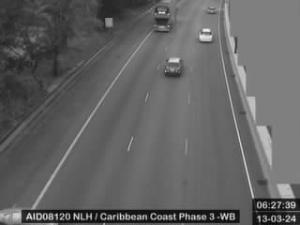bus: (152, 0, 179, 32)
vehicle: (164, 57, 182, 76), (198, 29, 214, 44), (206, 6, 218, 14)
